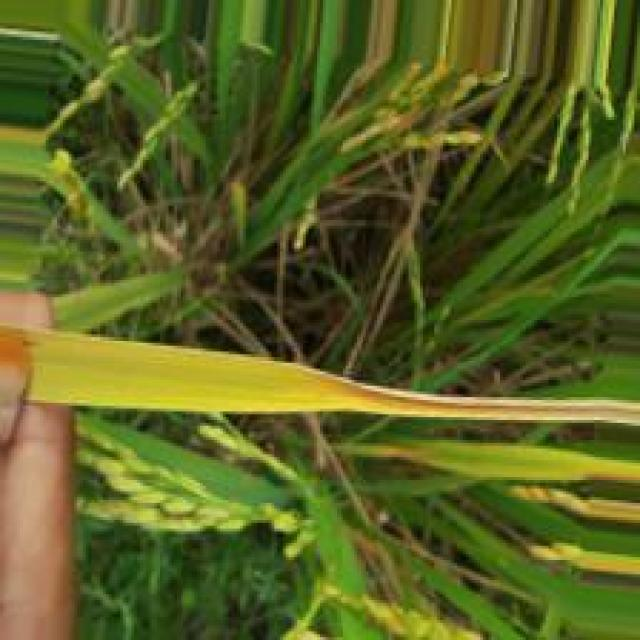Bacterial_Leaf_Blight: (34, 335, 567, 421)
